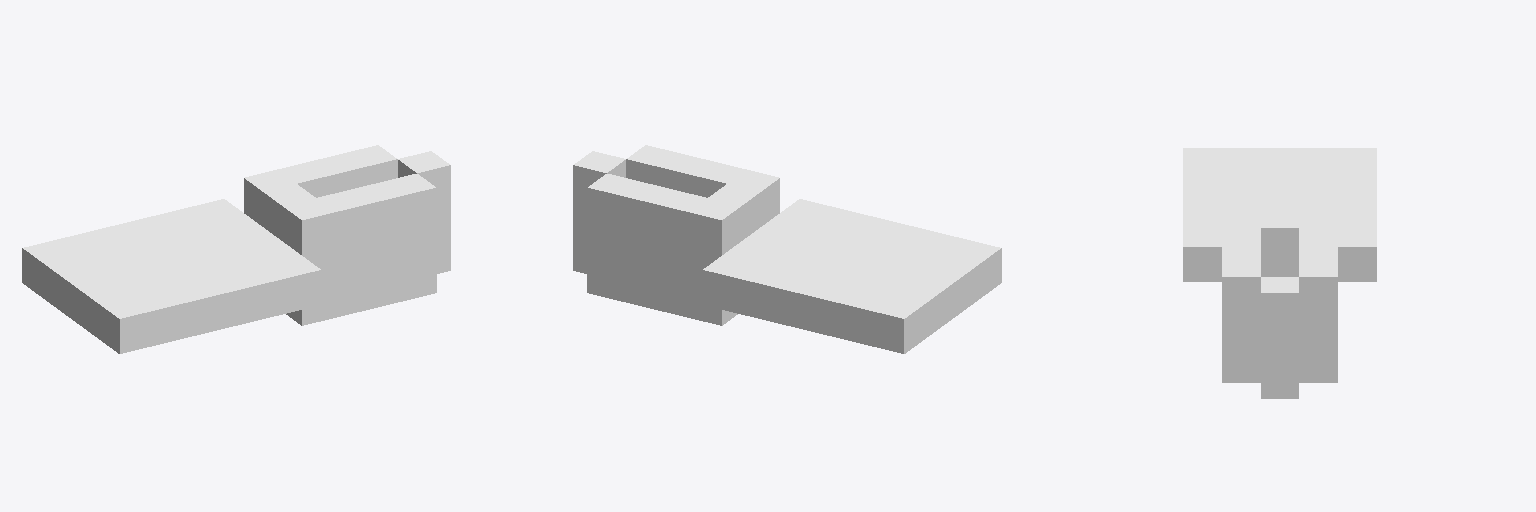
The model's file is HoeHead01.obj.
The picture shows the model from 3 angles: view 1: azimuth 30°, elevation 25°; view 2: azimuth 150°, elevation 25°; view 3: azimuth 270°, elevation 25°; orthographic projection.
Visible parts, largest first — view 1: object 1; view 2: object 1; view 3: object 1.
Part boxes in pixels (x1,y1,x2,y2): object 1: (22,145,450,353); object 1: (573,145,1001,353); object 1: (1183,148,1376,398).
Size of the model in its own units: 1.1 by 0.3 by 0.5.